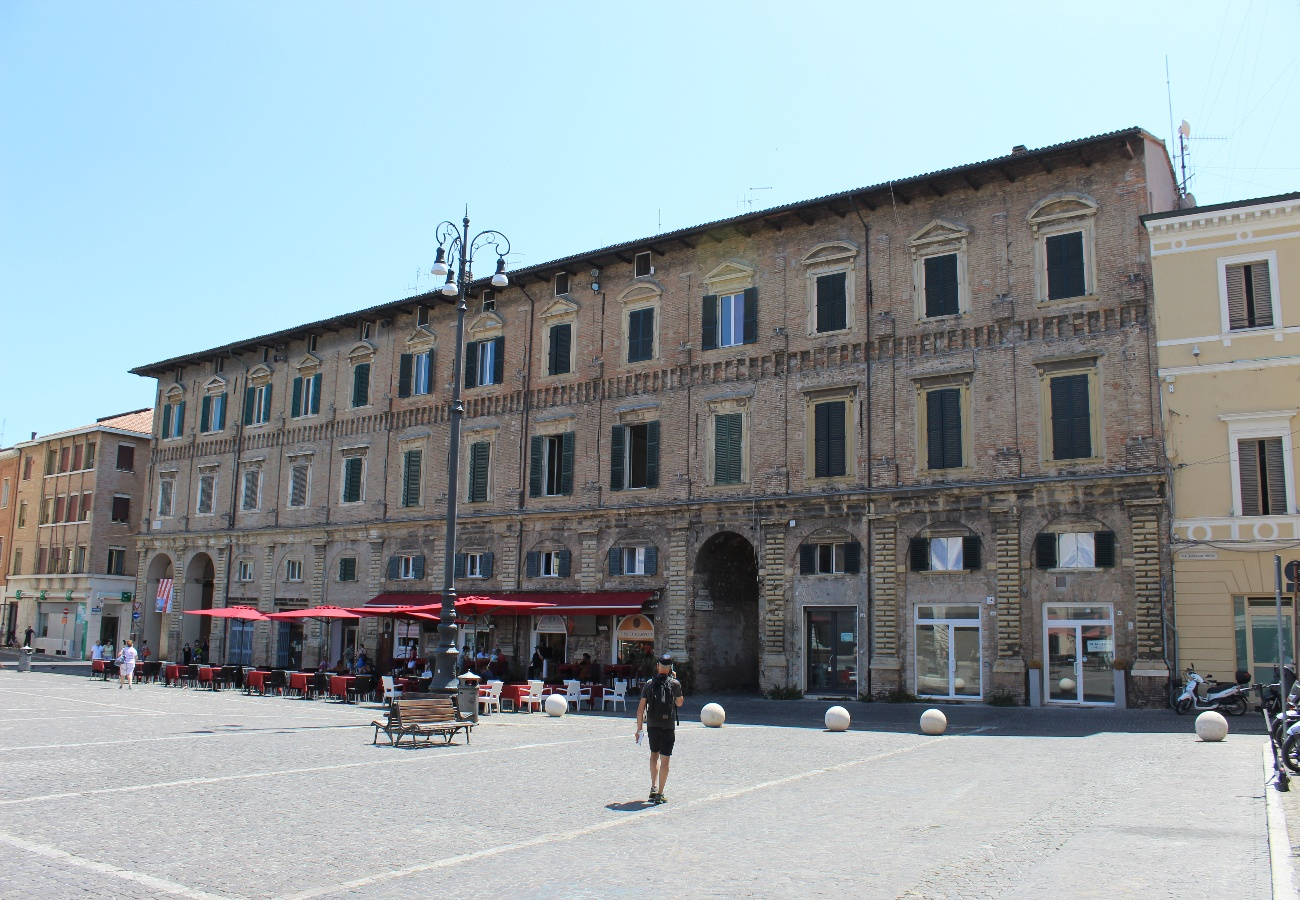Palazzo Baviera: (119, 162, 1152, 718)
